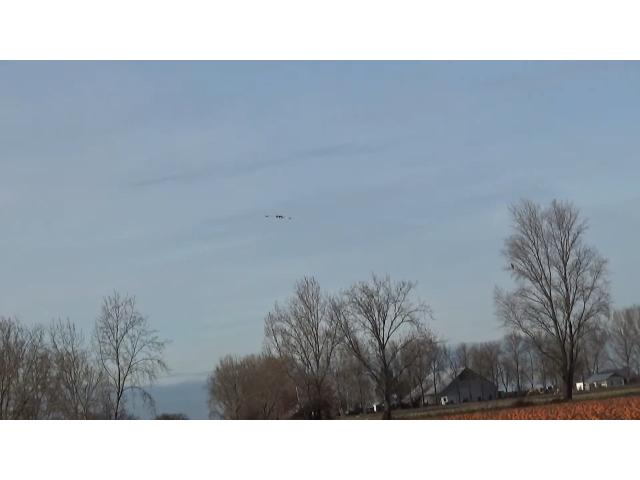Anti-Drone: (265, 215, 291, 219)
